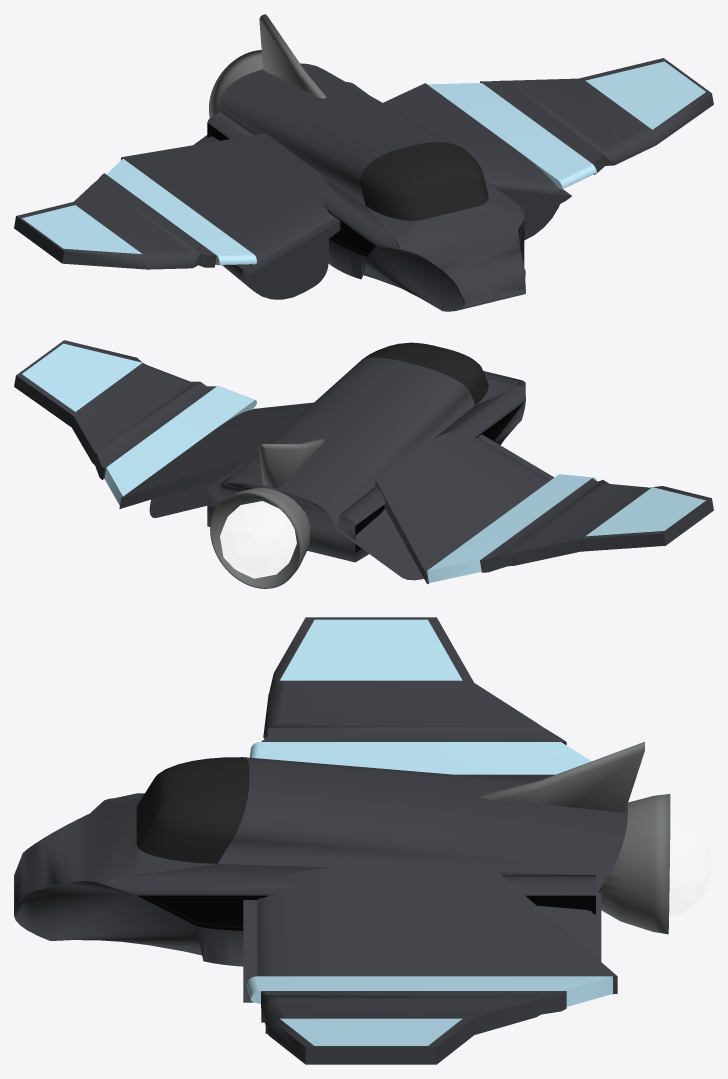
Rendered from ship_4.gltf.
The picture shows the model from 3 angles, top to bottom: view 1: azimuth 30°, elevation 25°; view 2: azimuth 150°, elevation 25°; view 3: azimuth 270°, elevation 25°; orthographic projection. The views are drawn at different scales.
Visible parts, largest first — view 1: wings.004, Cube.012, Cube.013, Cube.014, Cube.016, Cube.015, Cylinder.002, Cube.017; view 2: wings.004, Cube.012, Icosphere, Cylinder.002, Cube.013, Cube.014, Cube.017; view 3: wings.004, Cube.012, Cube.013, Cylinder.002, Cube.014, Cube.018, Icosphere.
Boxes of the visible parts, bbox=[...] form: wings.004: bbox=[14, 58, 713, 276]; Cube.012: bbox=[207, 63, 525, 311]; Cube.013: bbox=[360, 142, 488, 220]; Cube.014: bbox=[259, 14, 326, 98]; Cube.016: bbox=[252, 205, 553, 292]; Cube.015: bbox=[222, 204, 559, 299]; Cylinder.002: bbox=[209, 50, 262, 117]; Cube.017: bbox=[207, 123, 375, 256]; wings.004: bbox=[14, 340, 713, 584]; Cube.012: bbox=[207, 357, 525, 562]; Icosphere: bbox=[220, 501, 296, 578]; Cylinder.002: bbox=[210, 487, 310, 588]; Cube.013: bbox=[363, 342, 488, 404]; Cube.014: bbox=[258, 438, 324, 488]; Cube.017: bbox=[355, 402, 523, 552]; wings.004: bbox=[243, 617, 617, 1064]; Cube.012: bbox=[14, 757, 627, 966]; Cube.013: bbox=[136, 757, 249, 863]; Cylinder.002: bbox=[597, 794, 670, 934]; Cube.014: bbox=[479, 742, 644, 812]; Cube.018: bbox=[137, 895, 595, 930]; Icosphere: bbox=[669, 814, 713, 916].
Bounding box in the file's own units: 3.83 × 0.8652 × 2.62.
